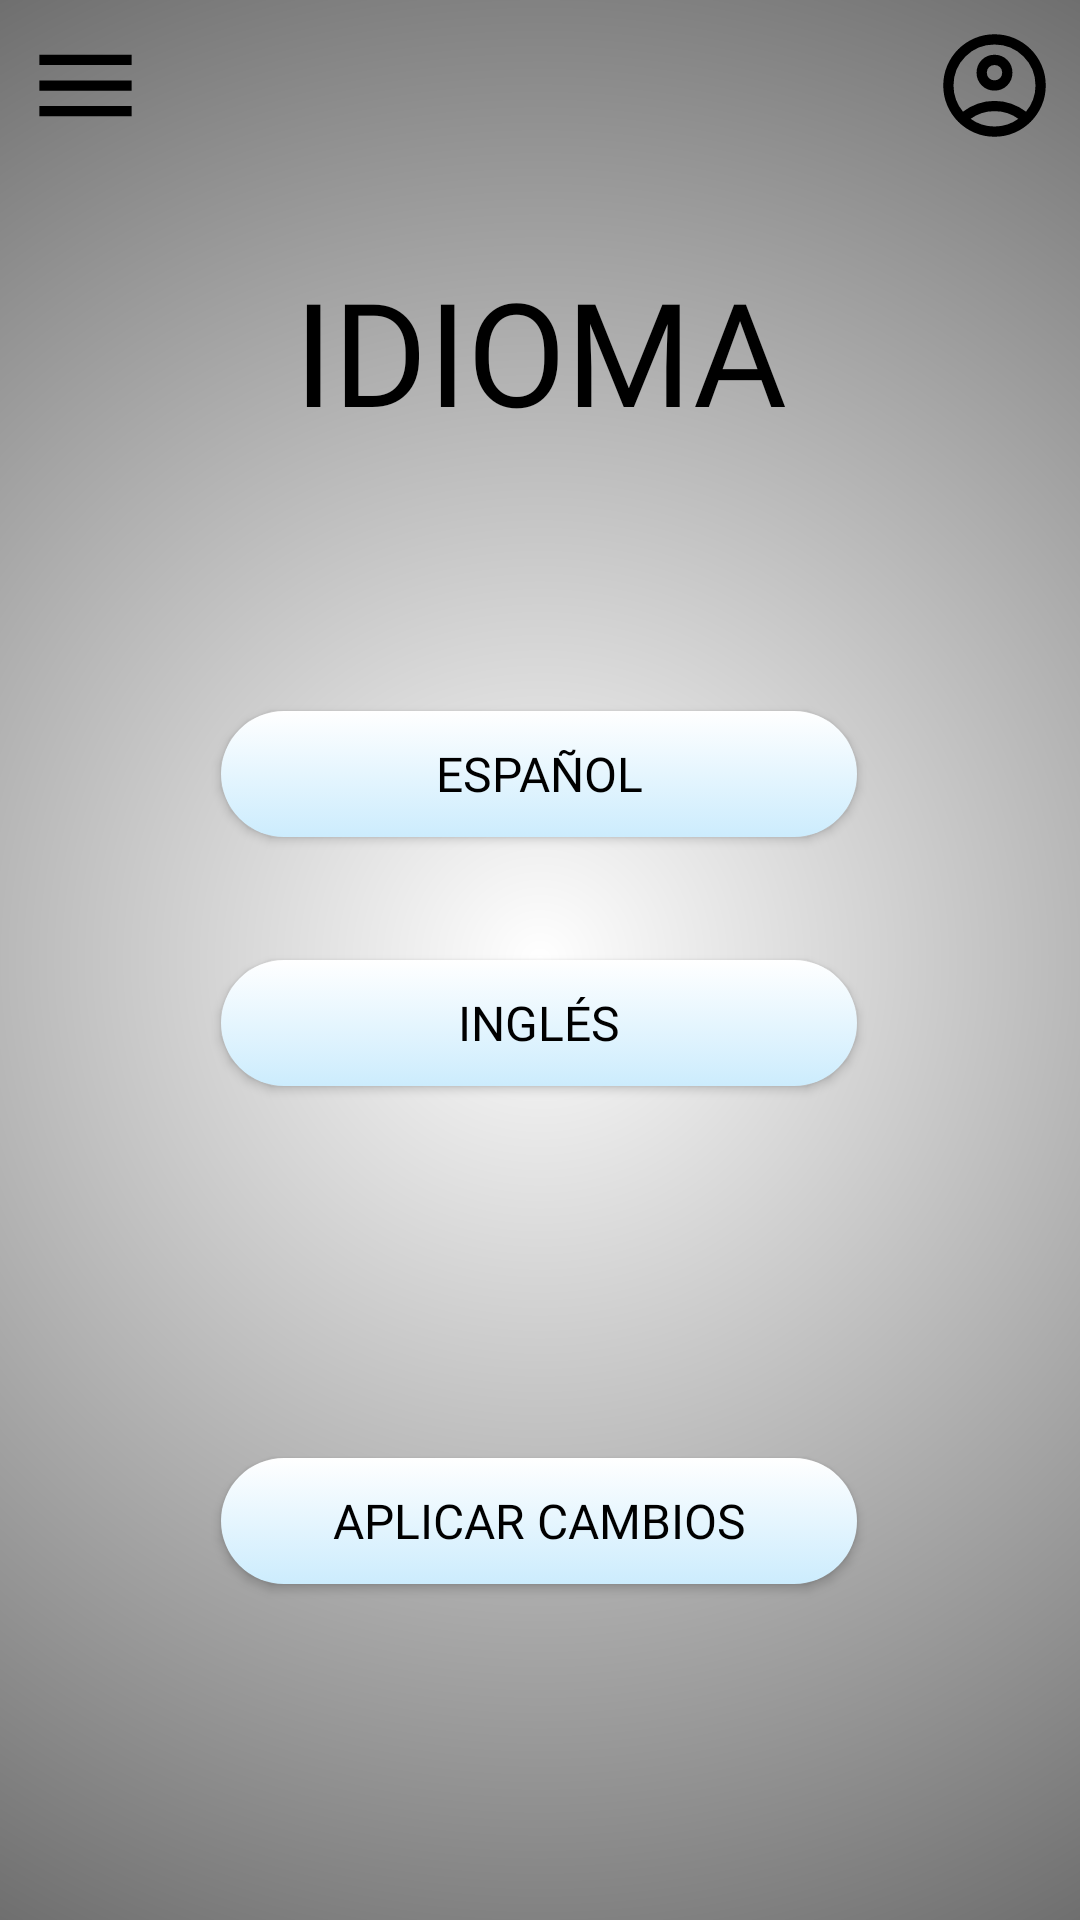

Locate icon controls on the screen. Image size 1080 × 1920, boxes as Rect(x1, y1, x2, y2).
account: Rect(943, 34, 1046, 137)
menu: Rect(39, 54, 132, 117)
